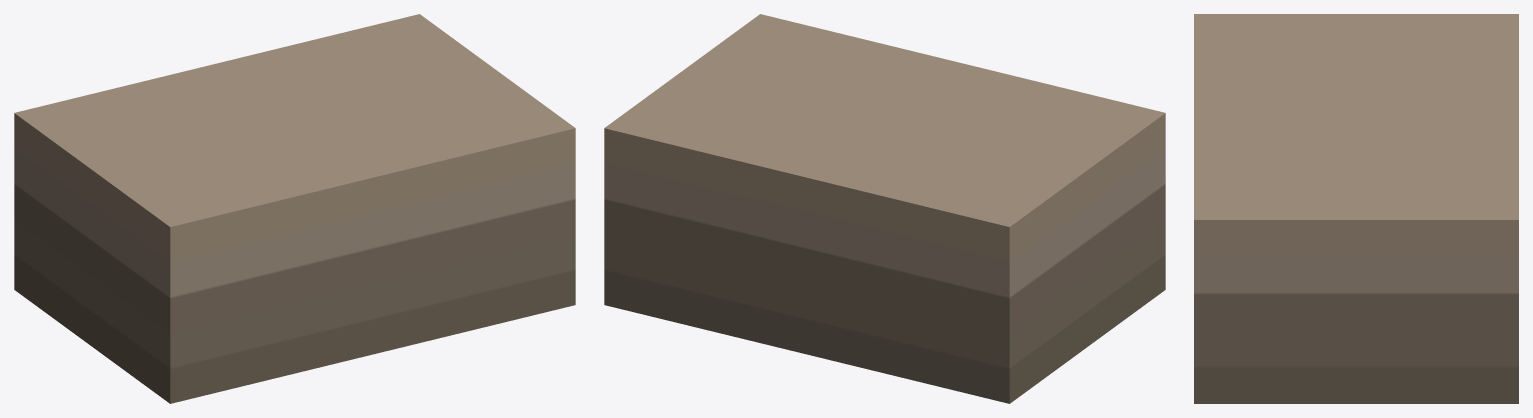
The picture shows the model from 3 angles, left to right: view 1: azimuth 30°, elevation 25°; view 2: azimuth 150°, elevation 25°; view 3: azimuth 270°, elevation 25°; orthographic projection. The views are drawn at different scales.
Visible parts, largest first — view 1: Root051; view 2: Root051; view 3: Root051.
Boxes of the visible parts, x1,y1,x2,y2 form: Root051: (14, 14, 575, 403); Root051: (604, 14, 1165, 403); Root051: (1194, 14, 1518, 403).
Size of the model in its own units: 12 by 5 by 8.
